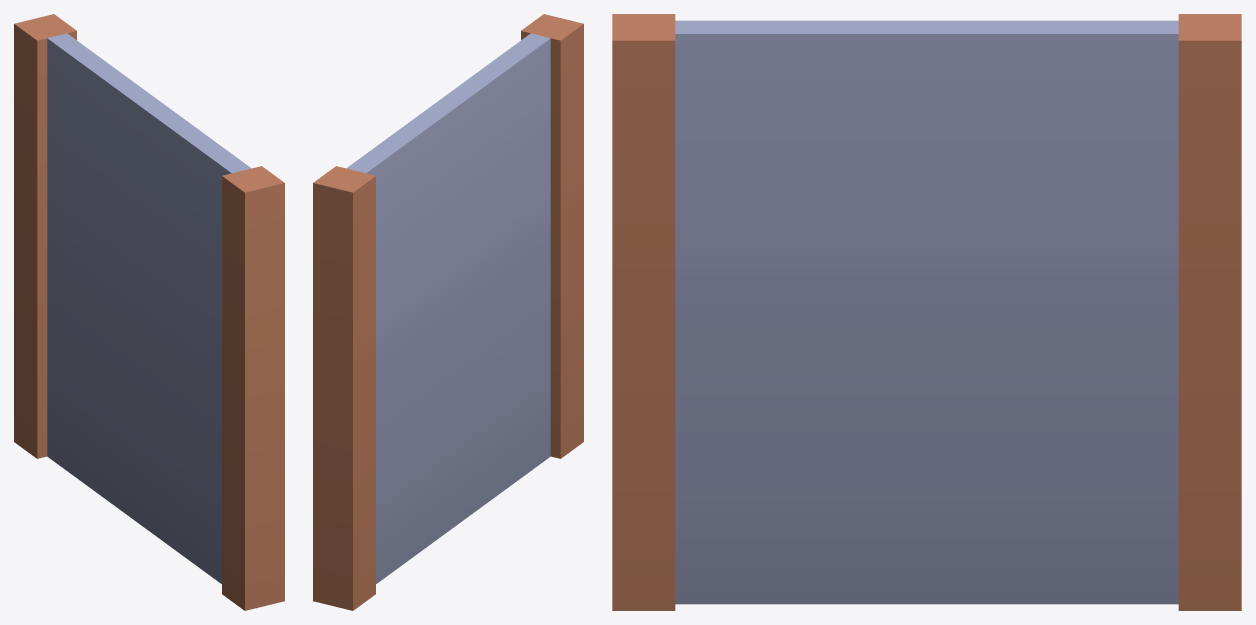
Rendered from ot-wall.glb.
3 views of the same model, side by side, from view 1: azimuth 30°, elevation 25°; view 2: azimuth 150°, elevation 25°; view 3: azimuth 270°, elevation 25° (orthographic). The views are drawn at different scales.
Visible parts, largest first — view 1: wall; view 2: wall; view 3: wall.
Part boxes in pixels (<box>): wall: <box>14,14,284,610</box>; wall: <box>313,14,583,610</box>; wall: <box>612,14,1241,610</box>.
Size of the model in its own units: 0.1 by 1 by 1.
1 material, 1 textured.
